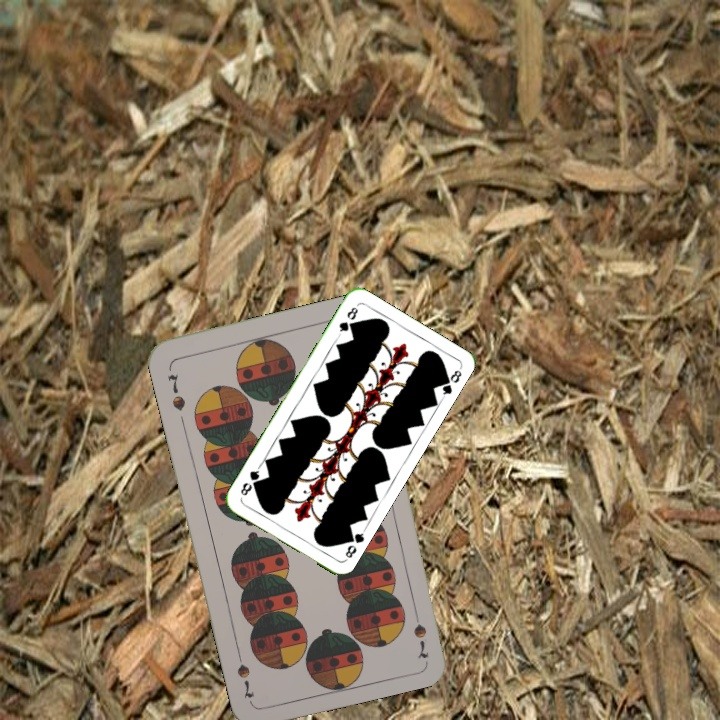G8: (341, 526, 368, 563), (334, 303, 361, 338)
S7: (409, 602, 432, 661), (163, 370, 188, 414)
